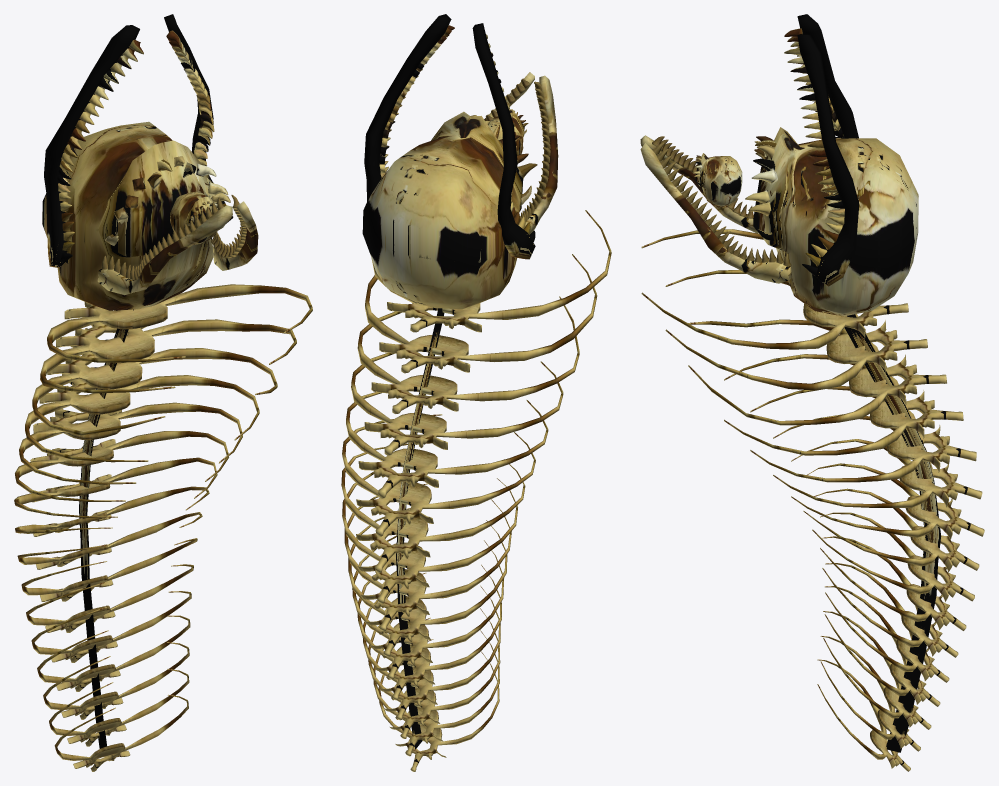
Rendered from snakeHead.fbx.
3 views of the same model, side by side, from view 1: azimuth 30°, elevation 25°; view 2: azimuth 150°, elevation 25°; view 3: azimuth 270°, elevation 25° (orthographic). The views are drawn at different scales.
Parts seen in each view (by area): view 1: snakeHead; view 2: snakeHead; view 3: snakeHead.
Boxes of the visible parts, <box> form: snakeHead: <box>14,14,312,771</box>; snakeHead: <box>341,14,611,771</box>; snakeHead: <box>640,14,984,771</box>.
Size of the model in its own units: 264 by 826 by 345.
1 material, 1 textured.
